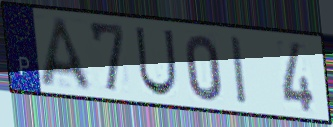0: (182, 30, 225, 104)
4: (279, 40, 316, 115)
7: (86, 19, 129, 94)
A: (38, 15, 96, 94)
I: (228, 33, 250, 108)
U: (133, 25, 179, 99)
